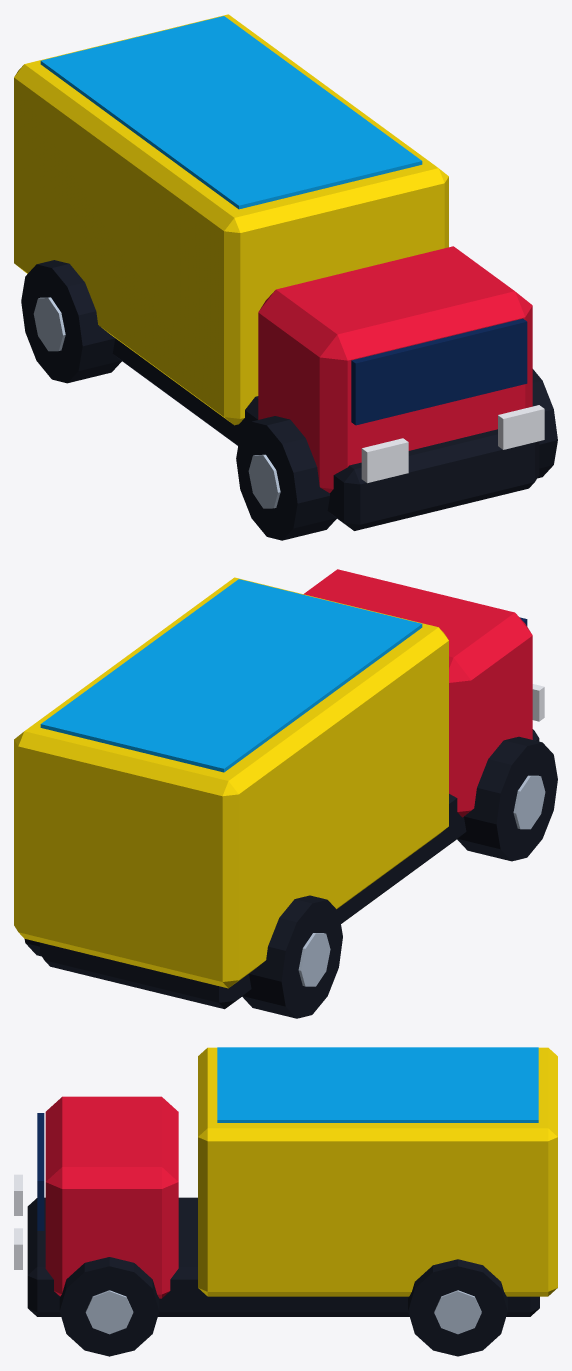
The model's file is truck.glb.
The picture shows the model from 3 angles, top to bottom: view 1: azimuth 30°, elevation 25°; view 2: azimuth 150°, elevation 25°; view 3: azimuth 270°, elevation 25°; orthographic projection. The views are drawn at different scales.
Parts seen in each view (by area): view 1: Chassis, WheelFrontL, WheelRearL, WheelFrontR; view 2: Chassis, WheelFrontL, WheelRearL; view 3: Chassis, WheelFrontR, WheelRearR.
Part boxes in pixels (x1,y1,x2,y2): Chassis: (14,14,544,530); WheelFrontL: (236,416,336,540); WheelRearL: (21,260,121,383); WheelFrontR: (532,369,557,478); Chassis: (14,569,544,1009); WheelFrontL: (457,736,557,861); WheelRearL: (242,895,342,1018); Chassis: (14,1047,557,1316); WheelFrontR: (59,1257,159,1356); WheelRearR: (408,1259,507,1356).
Bounding box in the file's own units: 0.904 × 0.882 × 1.96.
